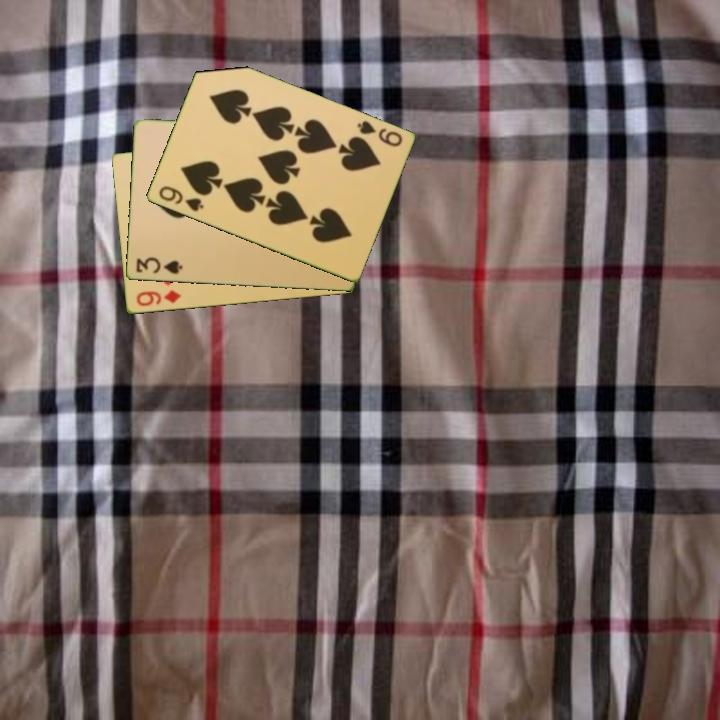3s: (132, 254, 185, 277)
9d: (133, 287, 184, 310)
9s: (353, 117, 405, 150), (155, 182, 206, 215)
